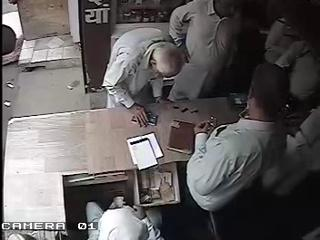Normal: (186, 62, 296, 240), (166, 0, 256, 102), (101, 28, 186, 128)
